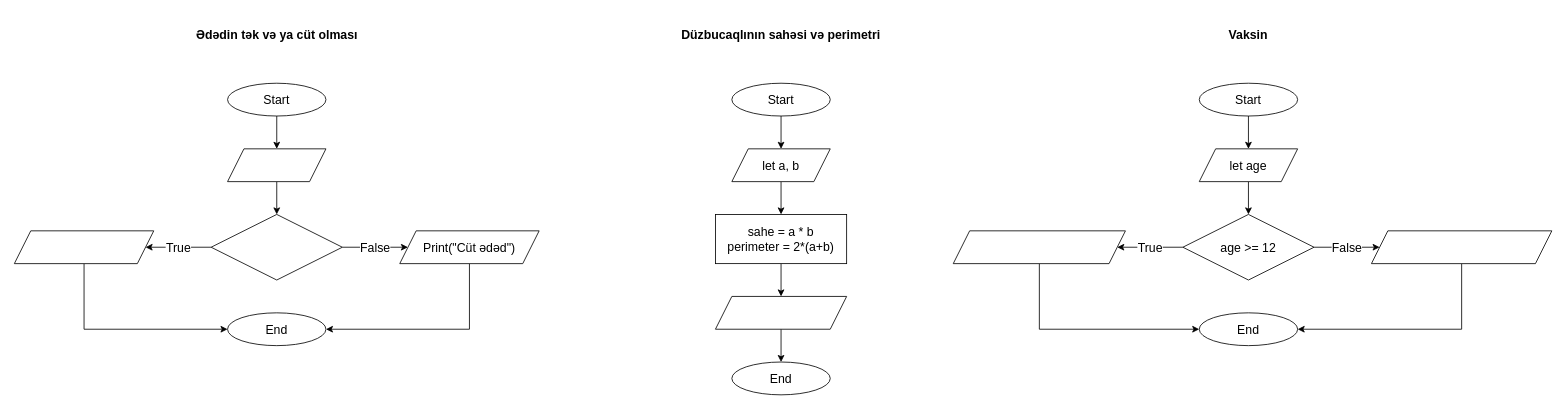
Some shapes in this 1566 by 409 pixel diagram are drawn without their labels. Each missing label, with the box of its shape:
let number: (227, 148, 326, 182)
number%2 == 1: (210, 214, 342, 280)
Print("Tək ədəd"): (14, 230, 154, 264)
Print("Vaksin oluna bilməz"): (1371, 230, 1552, 264)
Print("Vaksin oluna bilər"): (952, 230, 1125, 264)
Print(sahe) Print(perimeter): (715, 296, 847, 329)
